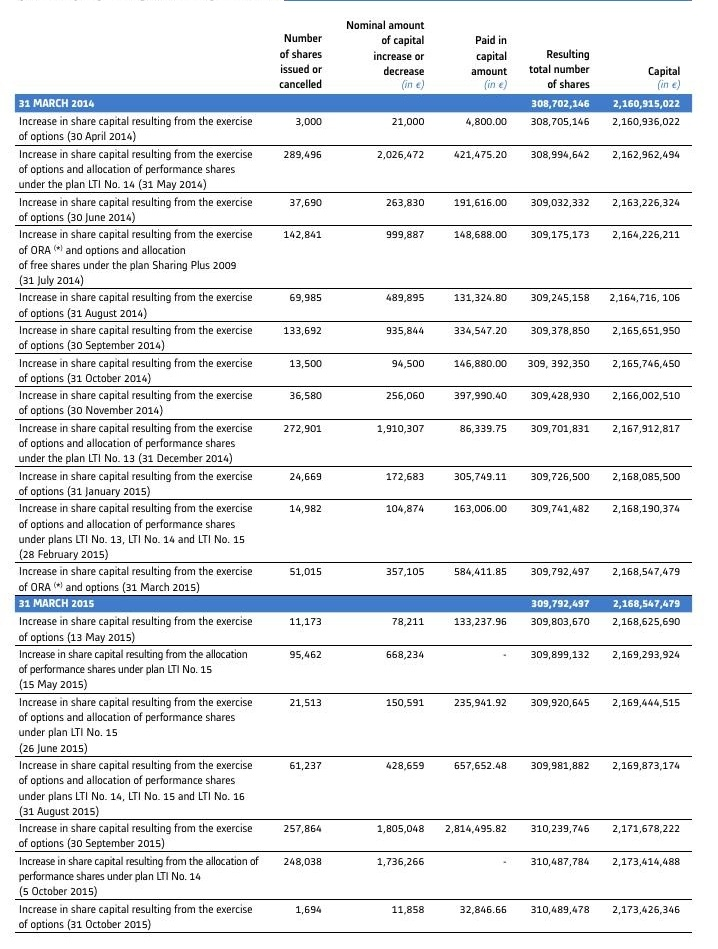table: (0, 0, 718, 949)
